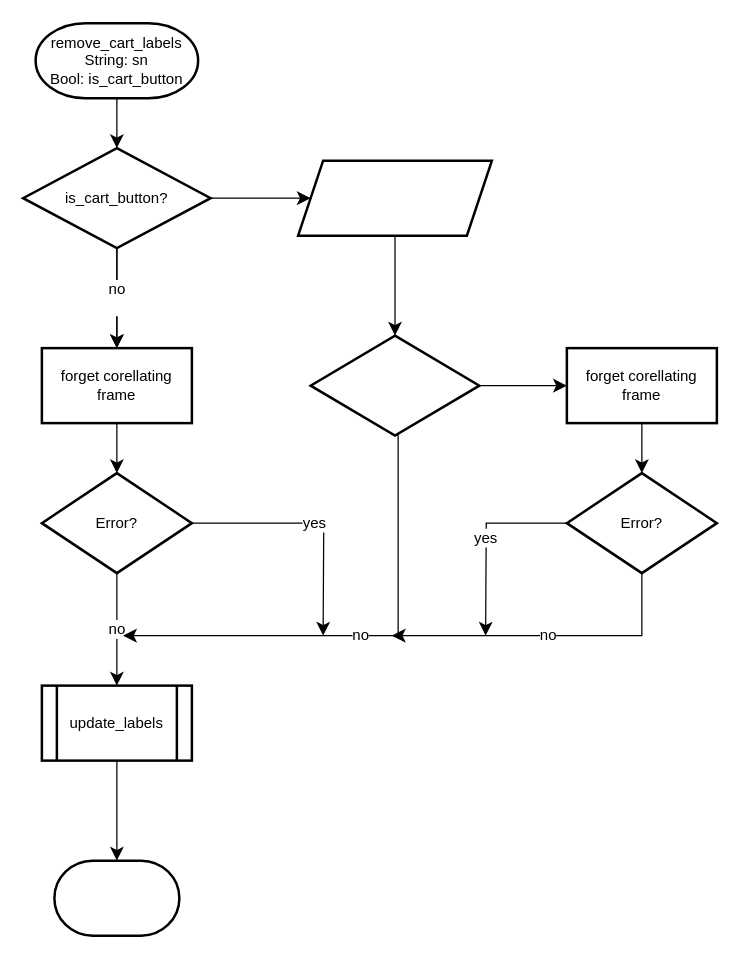
The diagram is 739 pixels wide and 958 high, and some of its shapes have lost their labels. The shapes that lost their labels are listed below. From the top down, each one's centre as x and y in pixels, then its label:
the point at 394,197: create messageBox and ask to confirm removing of item
the point at 394,385: Does user confirm?
the point at 116,897: end
